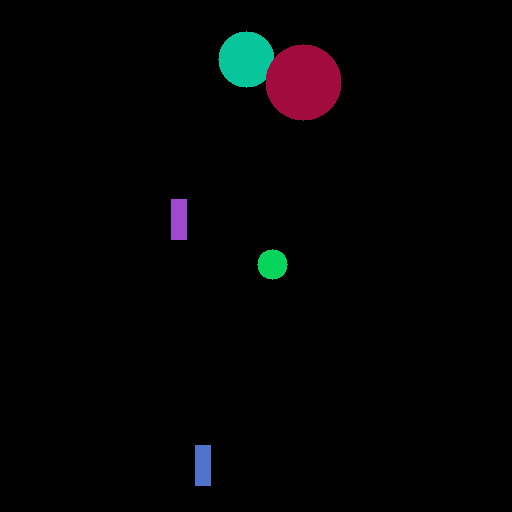circle: (266, 40, 341, 123), (217, 31, 274, 92), (255, 246, 287, 281)
up_rect: (167, 191, 192, 244), (194, 443, 214, 485)
